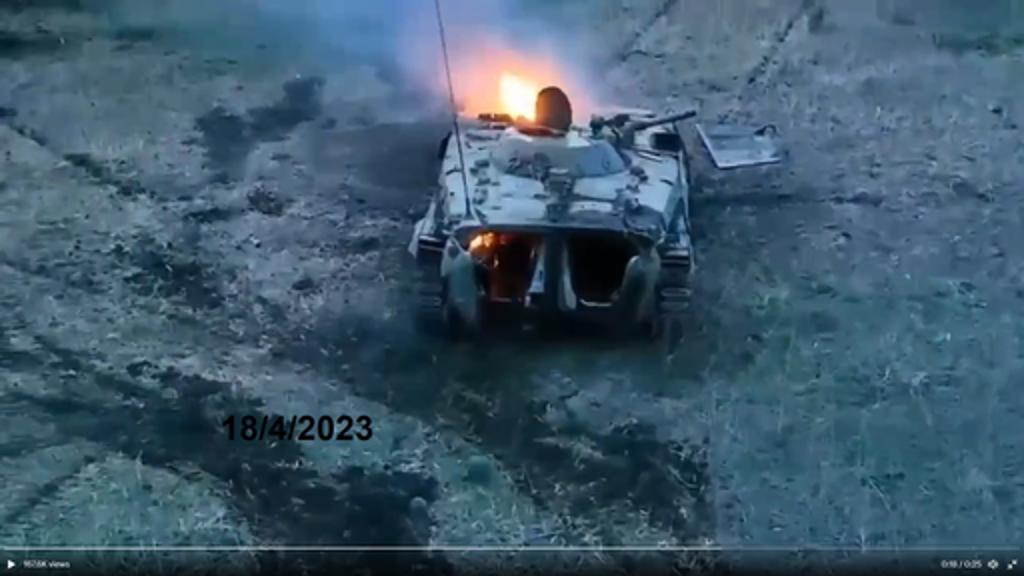APC-IFV: (414, 90, 692, 342)
